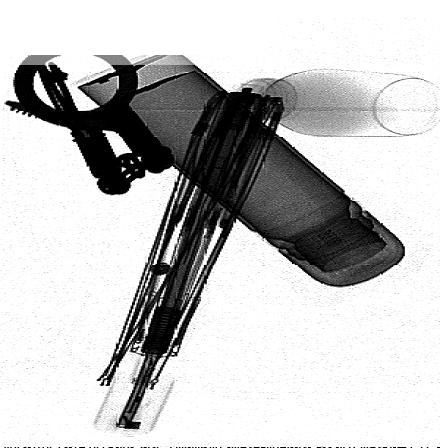HandCuffs: (3, 54, 175, 196)
